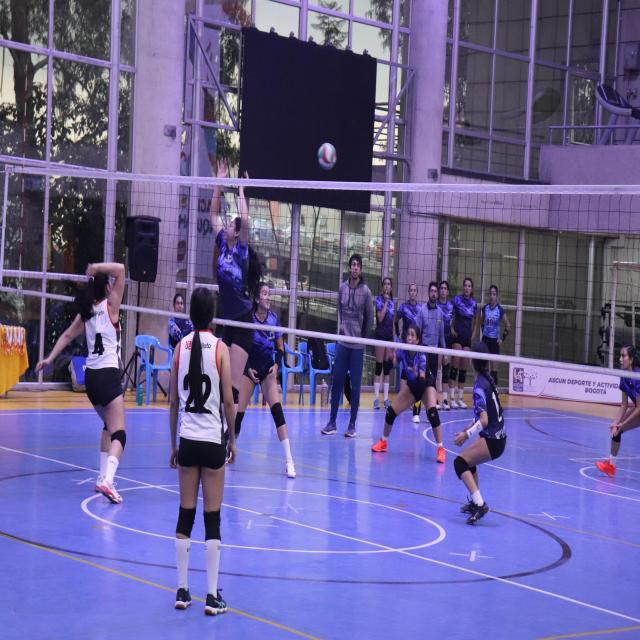volleyball: (319, 142, 336, 170)
